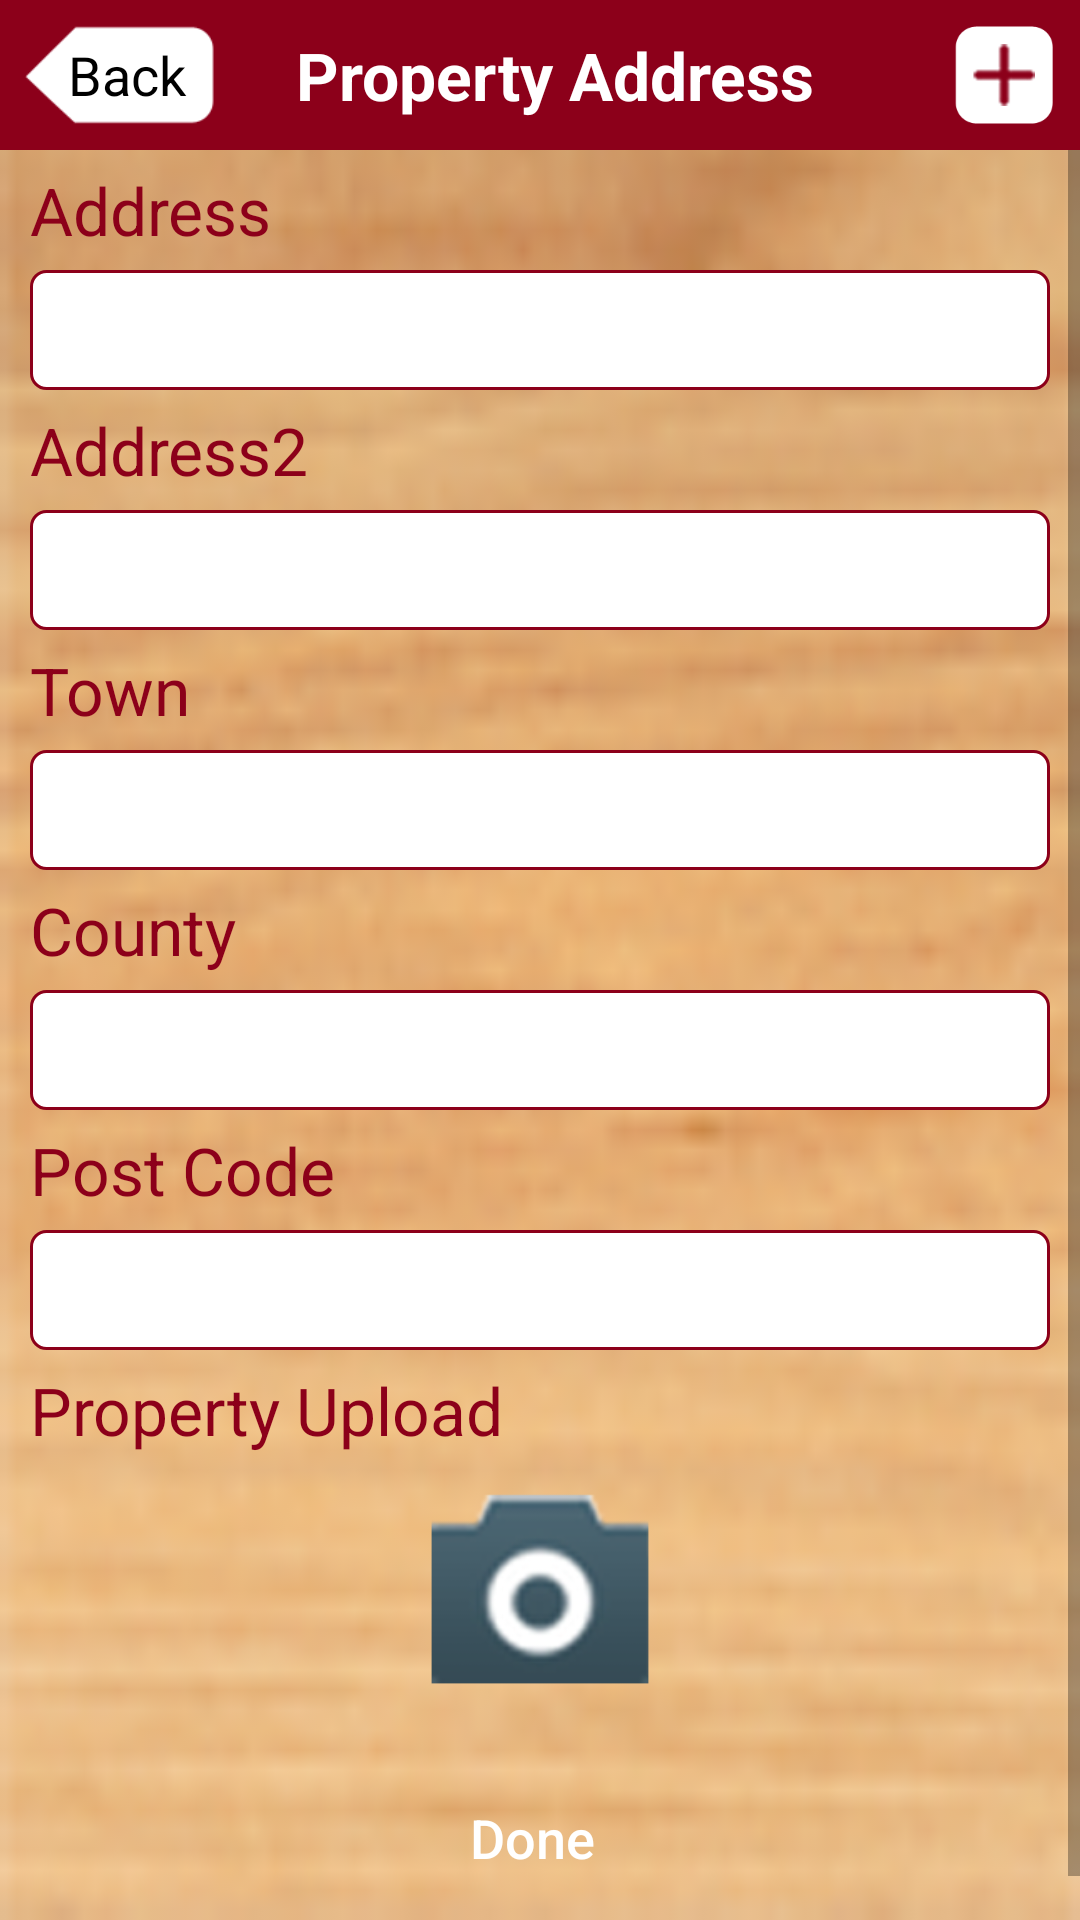

Screen size 1080*1920. Icon name, then its box in pixels as (x1, y1, x2, y2):
camera: (431, 1495, 649, 1684)
plus: (955, 26, 1053, 124)
